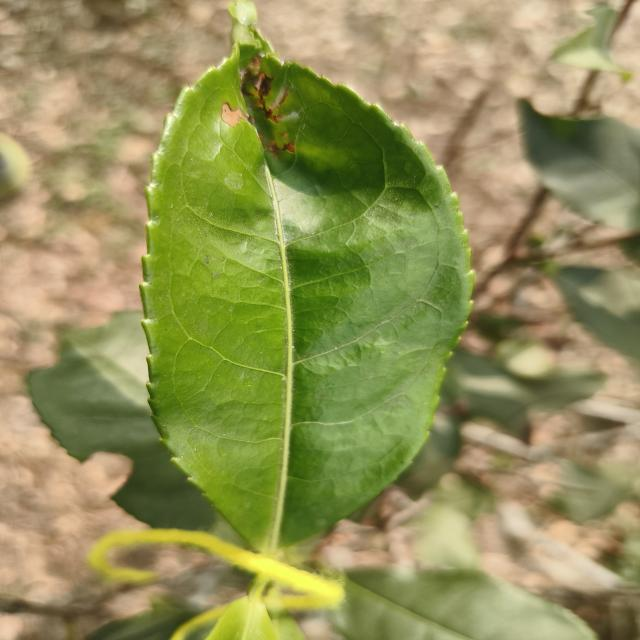Leaf: (141, 44, 471, 553), (28, 311, 216, 530), (333, 567, 597, 640), (519, 100, 640, 231)
